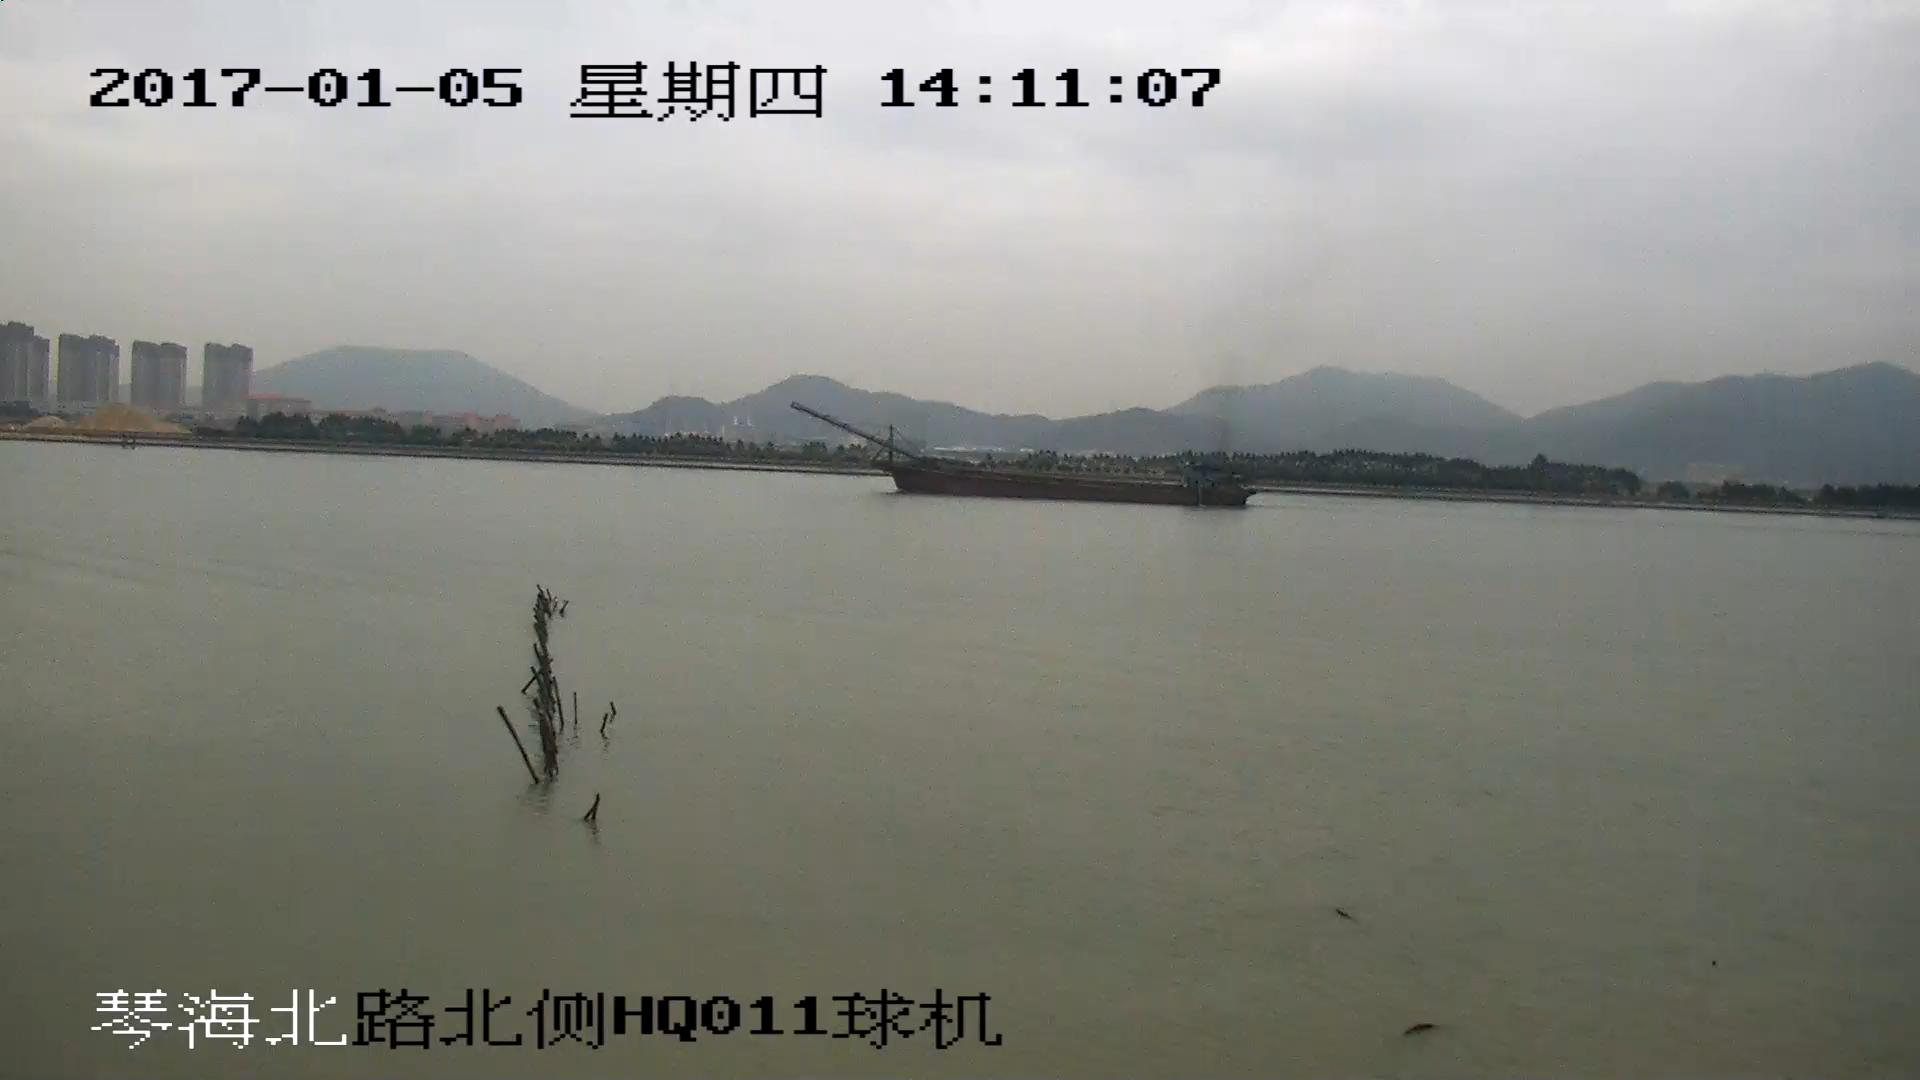bulk cargo carrier: (787, 401, 1248, 508)
